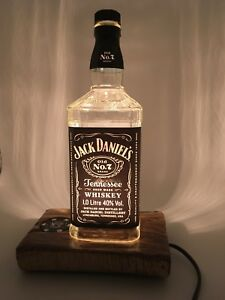Jack Daniel: (60, 6, 147, 251)
